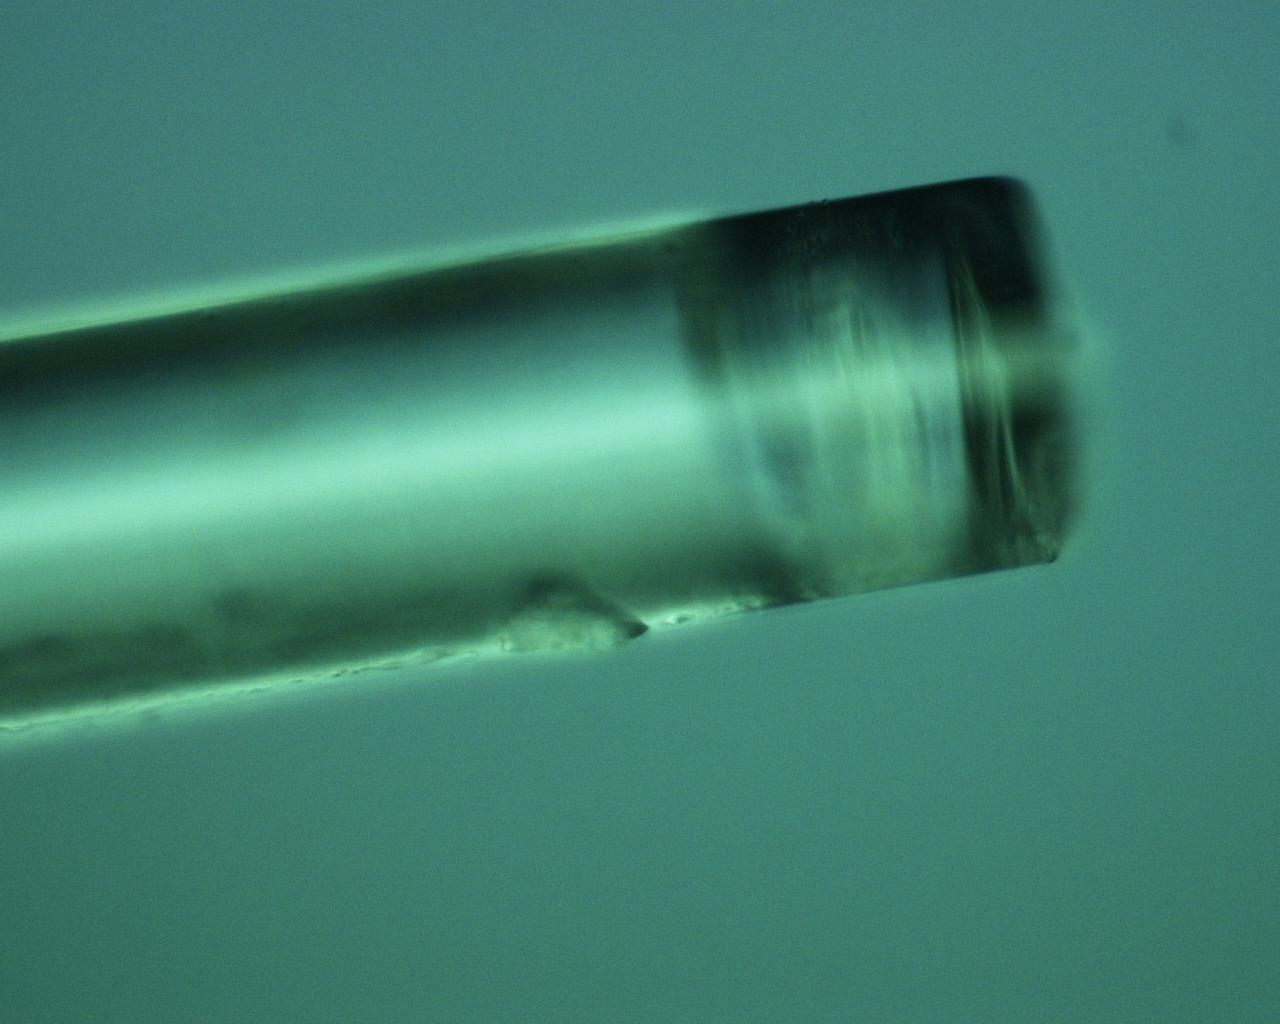fiber: (0, 164, 1092, 738)
